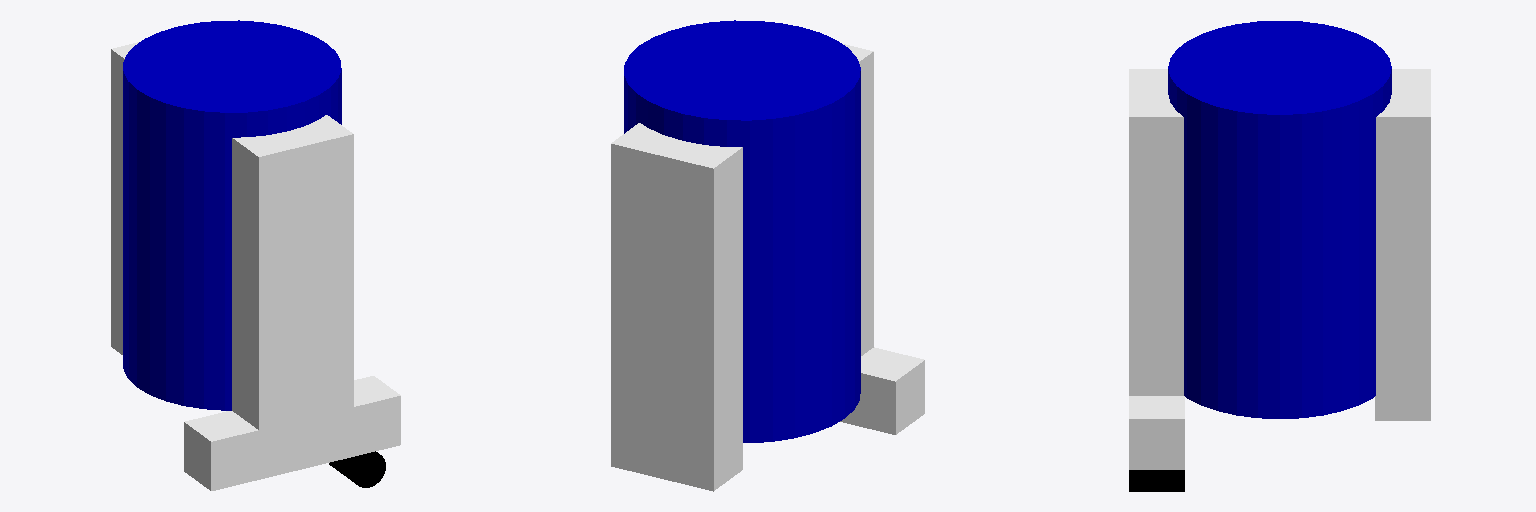
The robot description file, URDF, robot "materials":
<?xml version="1.0"?>
<robot name="materials">

  <material name="blue">
    <color rgba="0 0 0.8 1"/>
  </material>

  <material name="white">
    <color rgba="1 1 1 1"/>
  </material>

  <material name="black">
    <color rgba="0 0 0 1"/>
  </material>


  <link name="base_link">
    <visual>
      <geometry>
        <cylinder length="0.6" radius="0.2"/>
      </geometry>
      <material name="blue"/>
    </visual>
  </link>

  <link name="right_leg">
    <visual>
      <geometry>
        <box size="0.6 0.1 0.2"/>
      </geometry>
      <origin rpy="0 1.57075 0" xyz="0 0 -0.3"/>
      <material name="white"/>
    </visual>
  </link>

  <joint name="base_to_right_leg" type="fixed">
    <parent link="base_link"/>
    <child link="right_leg"/>
    <origin xyz="0 -0.22 0.25"/>
  </joint>

  <link name="right_base">
    <visual>
      <geometry>
        <box size="0.4 0.1 0.1"/>
      </geometry>
      <material name="white"/>
    </visual>
  </link>

  <joint name="right_base_joint" type="fixed">
    <parent link="right_leg"/>
    <child link="right_base"/>
    <origin xyz="0 0 -0.6"/>
  </joint>


  <link name="left_leg">
    <visual>
      <geometry>
        <box size="0.6 0.1 0.2"/>
      </geometry>
      <origin rpy="0 1.57075 0" xyz="0 0 -0.3"/>
      <material name="white"/>
    </visual>
  </link>

  <joint name="base_to_left_leg" type="fixed">
    <parent link="base_link"/>
    <child link="left_leg"/>
    <origin xyz="0 0.22 0.25"/>
  </joint>

  
  <link name="right_front_wheel">
    <visual>
      <origin rpy="1.57075 0 0" xyz="0 0 0"/>
      <geometry>
        <cylinder length="0.1" radius="0.035"/>
      </geometry>
      <material name="black"/>
    </visual>
  </link>
  <joint name="right_front_wheel_joint" type="fixed">
    <parent link="right_base"/>
    <child link="right_front_wheel"/>
    <origin rpy="0 0 0" xyz="0.133333333333 0 -0.085"/>
  </joint>

</robot>

--- Facts derived from the render (not from the file) ---
The picture shows the robot from 3 angles, left to right: view 1: azimuth 30°, elevation 25°; view 2: azimuth 150°, elevation 25°; view 3: azimuth 270°, elevation 25°; orthographic projection.
Robot: materials — 5 links, 4 joints (4 fixed); root link base_link; default pose: all joints at 0.
Visible links, largest first — view 1: base_link, right_leg, right_base, left_leg, right_front_wheel; view 2: base_link, left_leg, right_base, right_leg; view 3: base_link, left_leg, right_leg, right_base, right_front_wheel.
Link boxes in pixels (left/top/right/bottom): base_link: left=123, top=20, right=341, bottom=410; right_leg: left=232, top=115, right=353, bottom=453; right_base: left=184, top=376, right=400, bottom=490; left_leg: left=111, top=42, right=138, bottom=354; right_front_wheel: left=329, top=451, right=385, bottom=487; base_link: left=624, top=20, right=860, bottom=442; left_leg: left=611, top=123, right=742, bottom=491; right_base: left=840, top=347, right=924, bottom=434; right_leg: left=843, top=44, right=873, bottom=355; base_link: left=1168, top=21, right=1391, bottom=418; left_leg: left=1375, top=69, right=1430, bottom=420; right_leg: left=1129, top=69, right=1183, bottom=395; right_base: left=1129, top=396, right=1184, bottom=469; right_front_wheel: left=1129, top=470, right=1184, bottom=491.
Bounding box of the posed robot: 0.4 × 0.54 × 0.77 m (x, y, z).
Geometry: primitives only (box / cylinder / sphere), no mesh files.